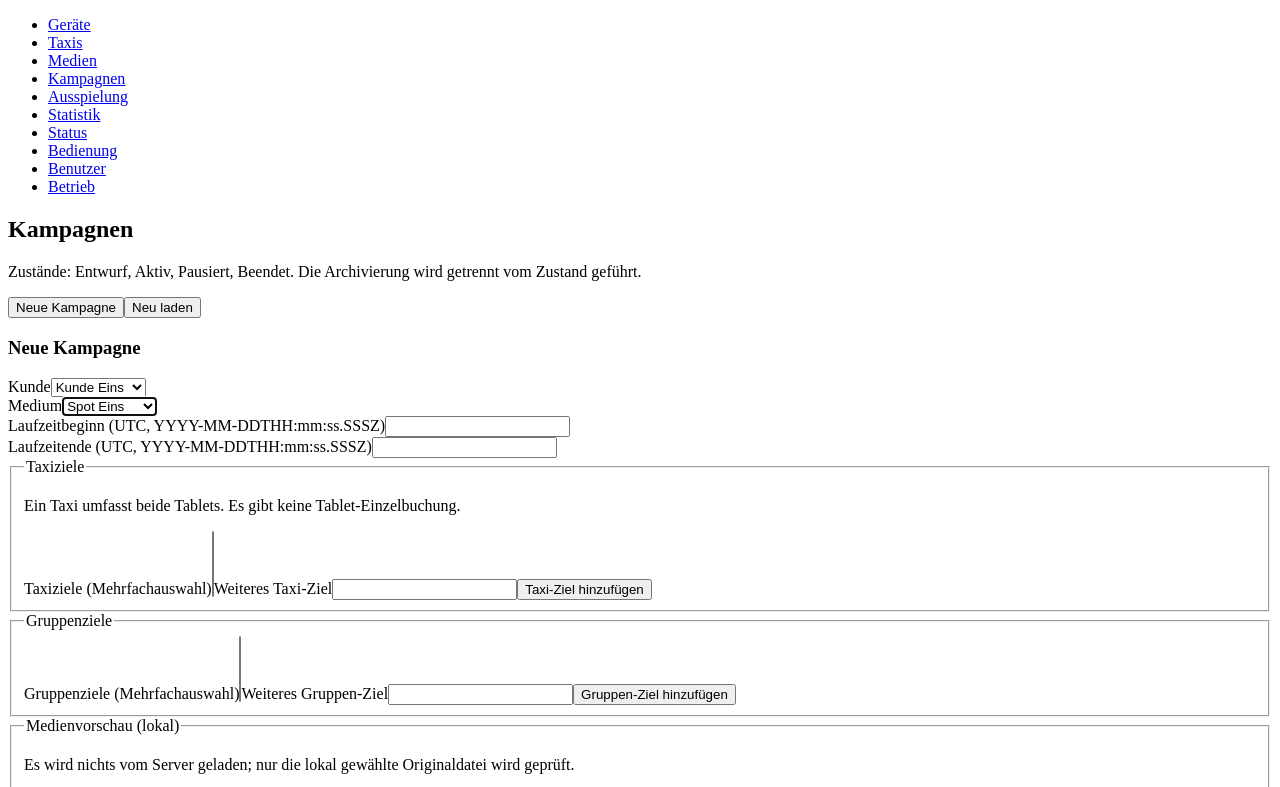
Test: CX-040 Kampagnenseite › legt ueber die echte App eine Kampagne an und sendet bei Doppelklick nur einmal
Earlier steps of the test are not shown.
(page scrolled)
Type "2026-12-01T10:00:00.000Z" into the field labelled "Laufzeitbeginn (UTC, YYYY-MM-DDTHH:mm:ss.SSSZ)" at (478, 426), box [385, 416, 570, 437]
Type "2026-12-02T10:00:00.000Z" into the field labelled "Laufzeitende (UTC, YYYY-MM-DDTHH:mm:ss.SSSZ)" at (464, 447), box [372, 437, 557, 458]
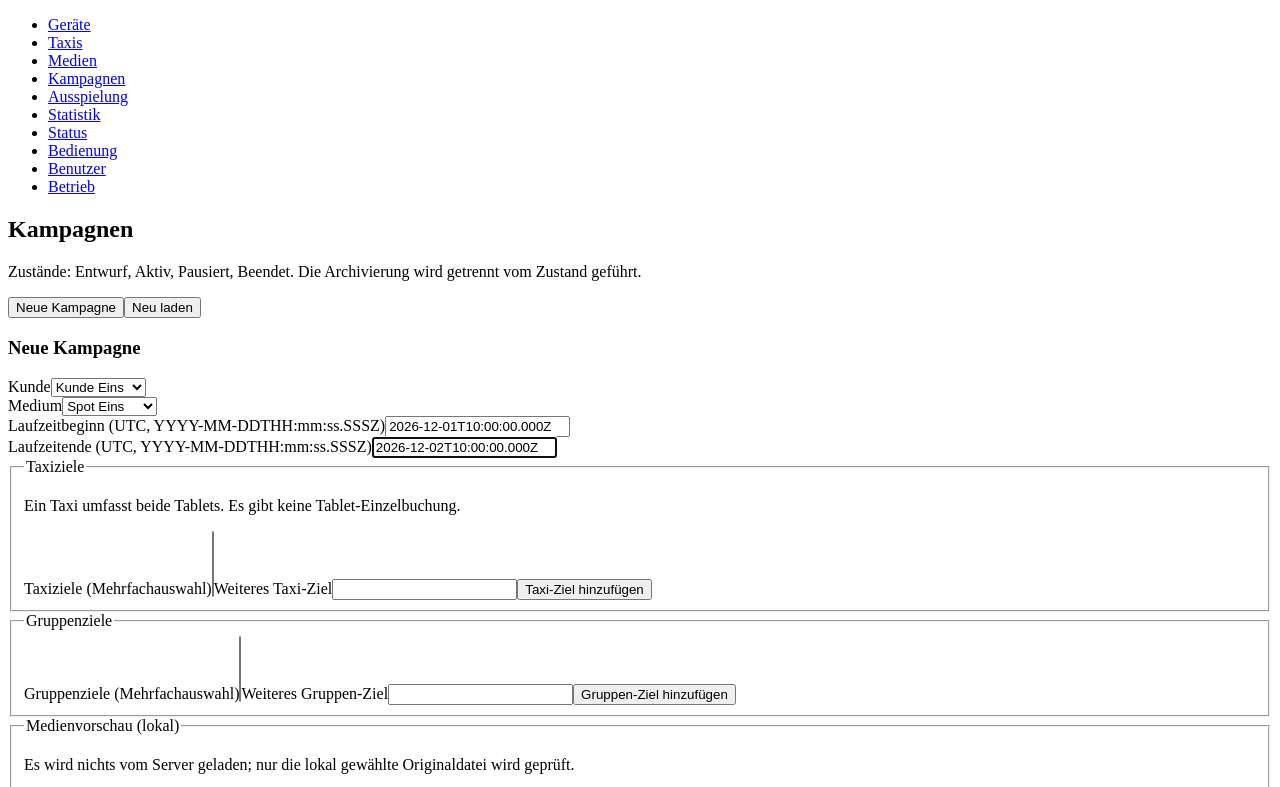
Expected: the text "Ein Taxi umfasst beide Tablets" is shown, [24, 497, 460, 514]
Type "taxi-1" into the field labelled "Weiteres Taxi-Ziel" at (425, 590), box [332, 579, 517, 600]
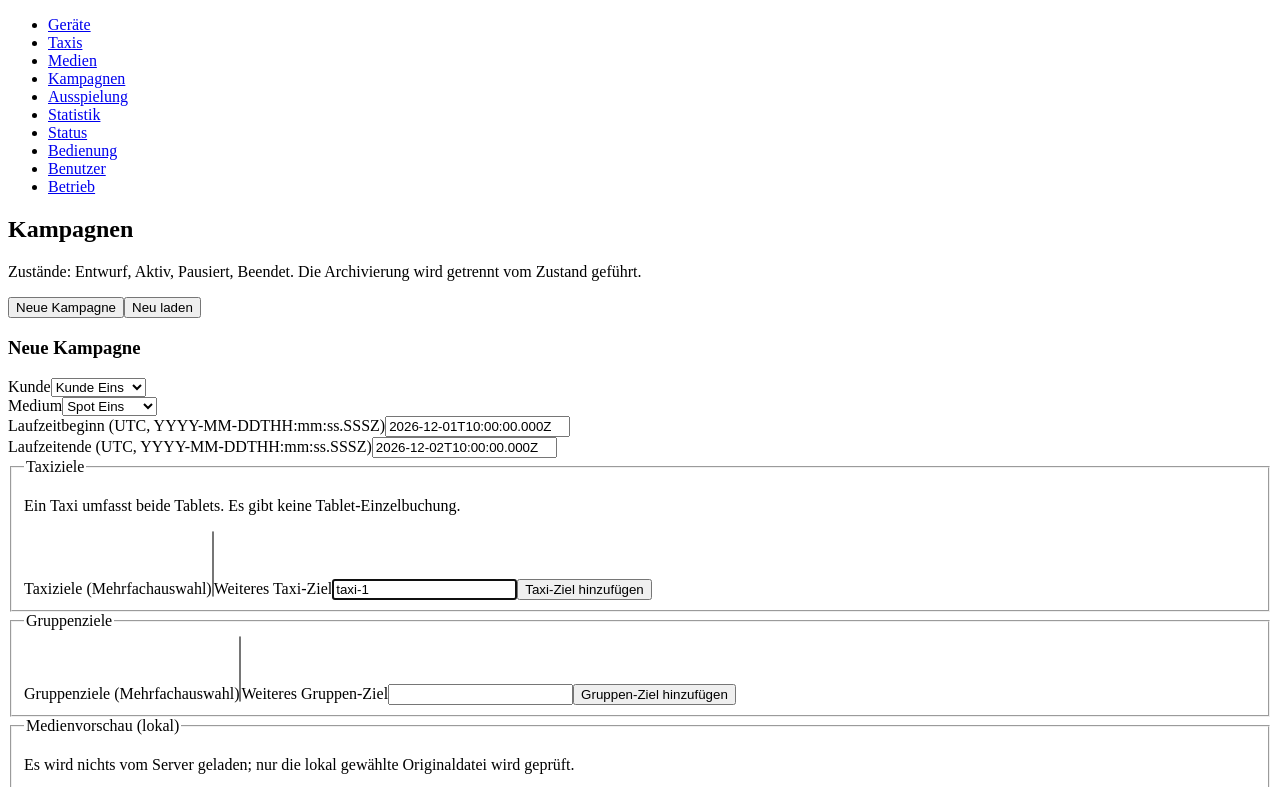
Click the button "Taxi-Ziel hinzufügen" at (585, 590), box [517, 579, 652, 600]
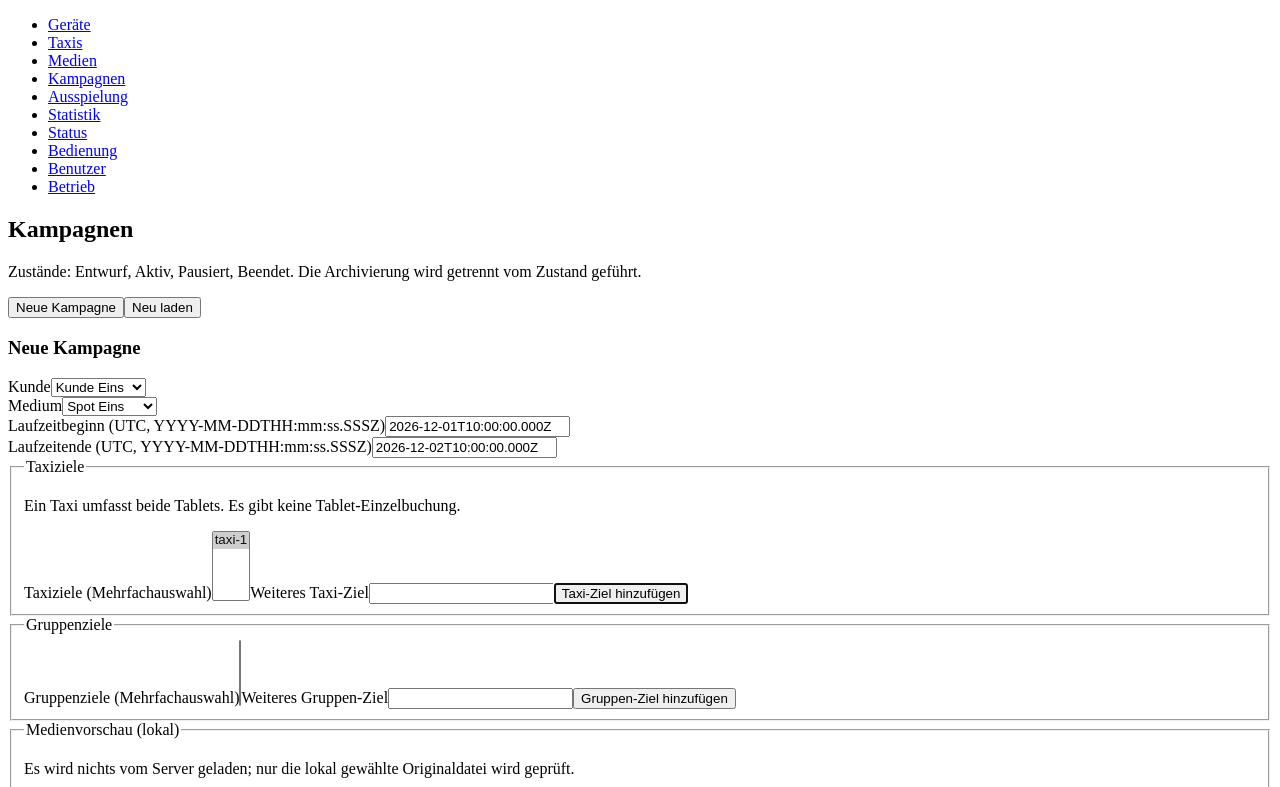
Type "gruppe-1" into the field labelled "Weiteres Gruppen-Ziel" at (481, 698), box [388, 688, 573, 709]
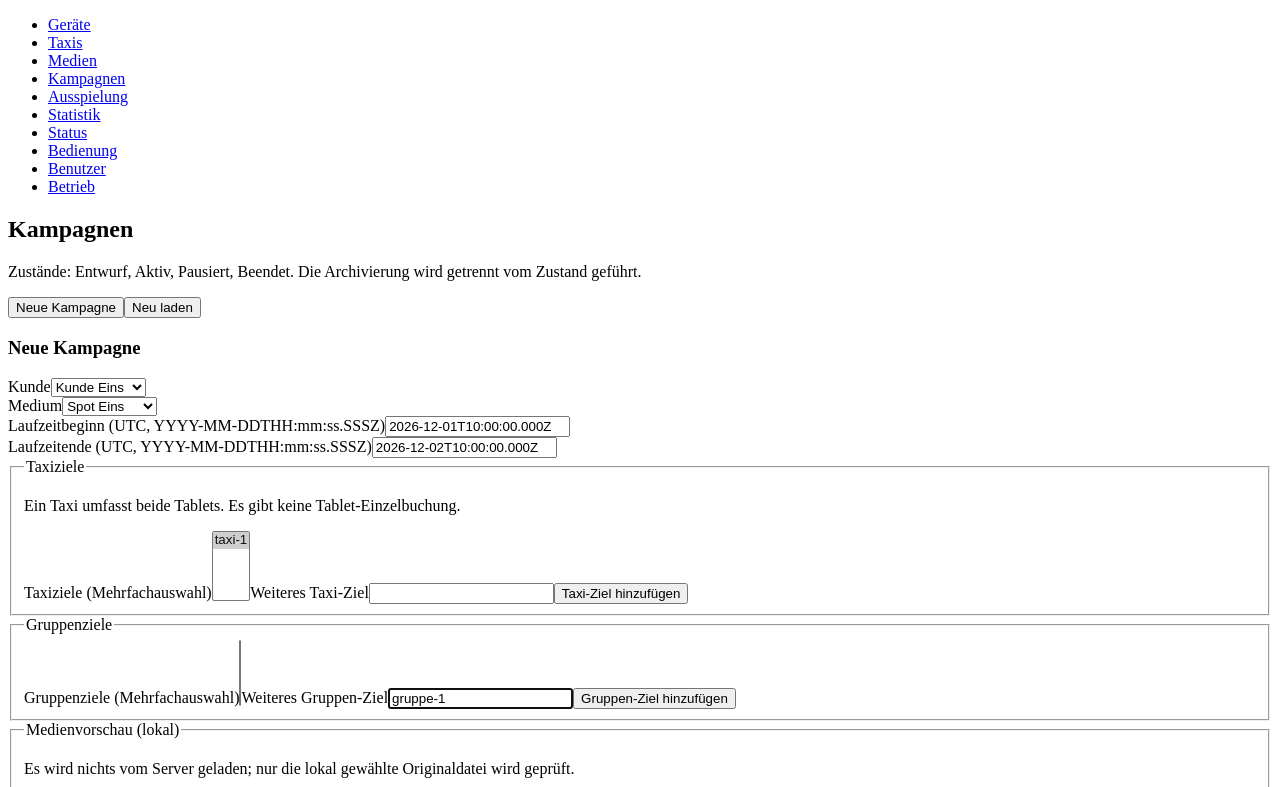
Click the button "Gruppen-Ziel hinzufügen" at (654, 698), box [573, 688, 736, 709]
(page scrolled)
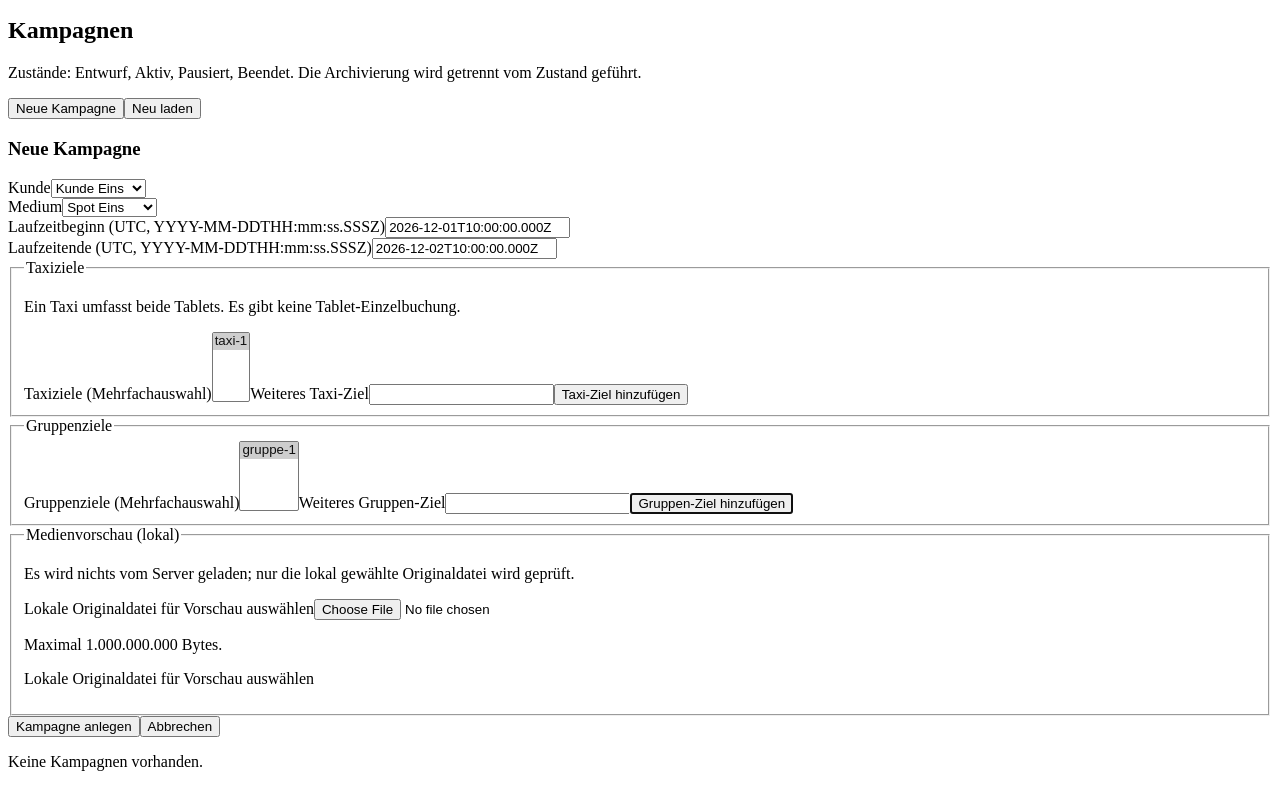
Expected: the dropdown labelled "Taxiziele" shows "taxi-1", [212, 332, 250, 402]
Expected: the form named "Kampagne anlegen" is shown
Expected: the dropdown labelled "Gruppenziele" shows "gruppe-1", [240, 441, 299, 511]
Submit the form named "Kampagne anlegen"
Submit the form named "Kampagne anlegen"
(page scrolled)
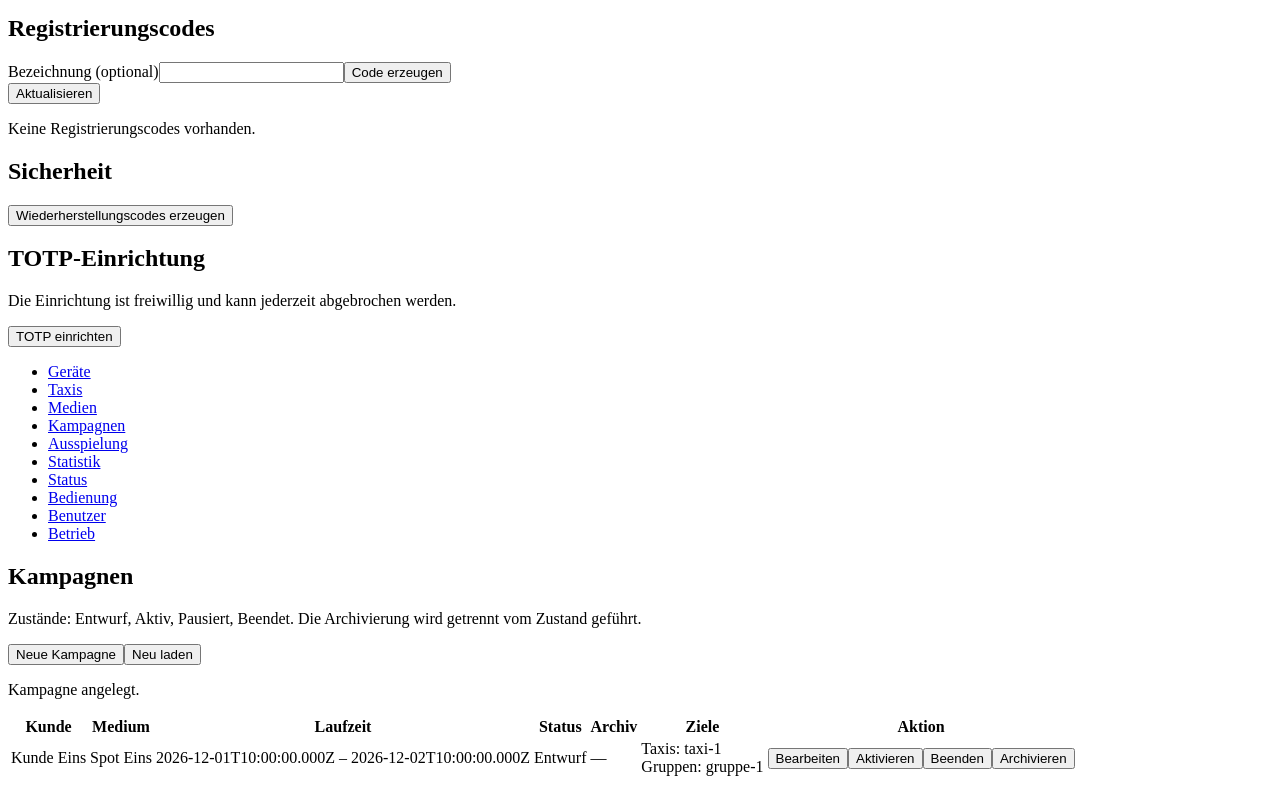
Expected: the text "Kampagne angelegt." is shown, [8, 681, 140, 698]
Expected: the text "Kunde Eins" is shown, [10, 739, 87, 777]
